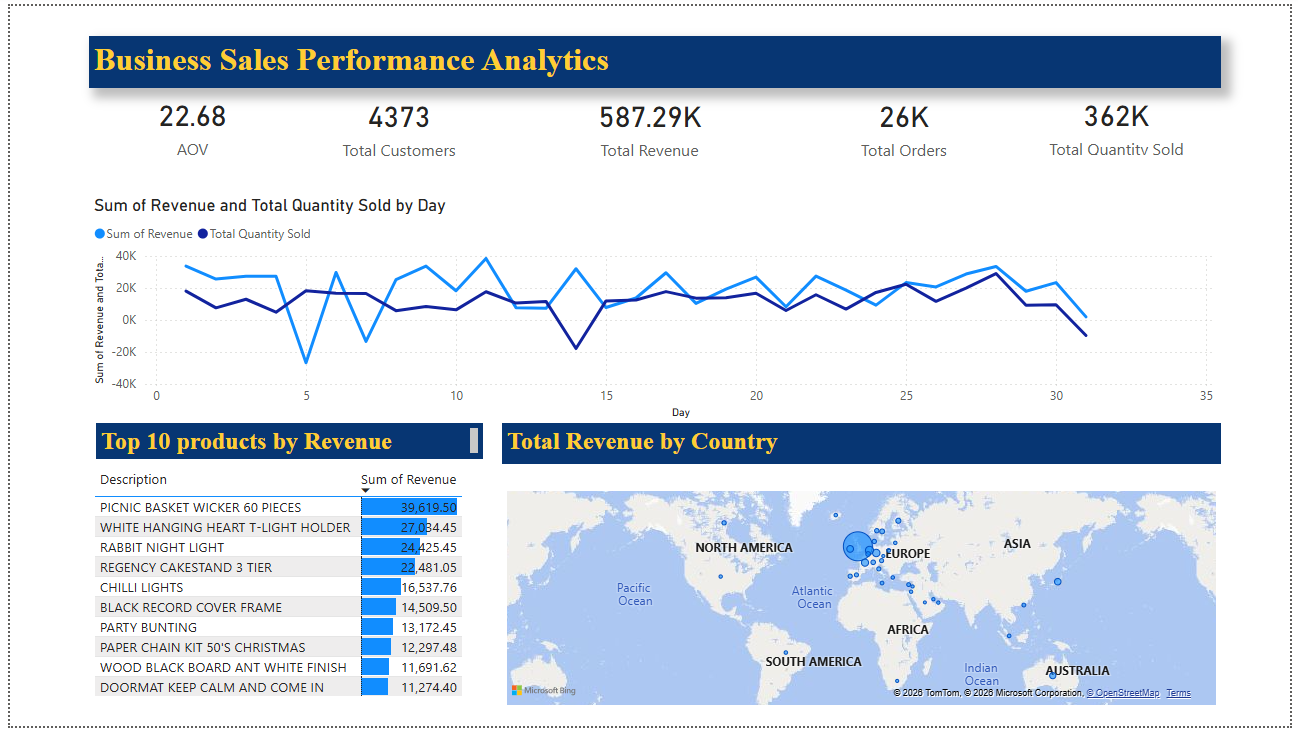

The page's visual inventory and layout, read from the dashboard file:
{"tool":"powerbi","page":{"name":"Page 1","canvas":[1280,720],"ordinal":0},"visuals":[{"type":"tableEx","fields":{"Values":["online_retail.Description","Sum(online_retail.Revenue)"]},"box":[79,458,394,246],"z":0},{"type":"map","fields":{"Category":["online_retail.Country"],"Size":["online_retail.Total Revenue"]},"box":[492,480,719,224],"z":1000},{"type":"card","fields":{"Values":["online_retail.Total Customers"]},"box":[286,83.6,206.2,71],"z":2000},{"type":"card","fields":{"Values":["online_retail.AOV"]},"box":[78.8,81.7,207.2,72],"z":3000},{"type":"card","fields":{"Values":["online_retail.Total Orders"]},"box":[804,83,180,72],"z":4000},{"type":"card","fields":{"Values":["online_retail.Total Revenue"]},"box":[551.8,83.6,175.5,71.8],"z":5000},{"type":"card","fields":{"Values":["online_retail.Total Quantity Sold"]},"box":[1012.7,81.8,187.3,71.8],"z":6000},{"type":"textbox","box":[78.8,30.2,1132.2,51.6],"z":7000},{"type":"lineChart","fields":{"Category":["online_retail.InvoiceDate.Variation.Date Hierarchy.Year","online_retail.InvoiceDate.Variation.Date Hierarchy.Quarter","online_retail.InvoiceDate.Variation.Date Hierarchy.Month","online_retail.InvoiceDate.Variation.Date Hierarchy.Day"],"Y":["Sum(online_retail.Revenue)","online_retail.Total Quantity Sold"]},"box":[79.1,189.1,1131.8,228.2],"z":8000},{"type":"textbox","box":[86,417,387,36],"z":9000},{"type":"textbox","box":[492,417,719,41],"z":9001}]}

Visuals, with their boxes in screenshot pixels (x1, y1, x2, y2), scaled from the page's 1280x720 canvas onto the 1298x735 screenshot:
tableEx - online_retail.Description x Sum(online_retail.Revenue): 80 468 480 719
map - online_retail.Country x online_retail.Total Revenue: 499 490 1228 719
card - online_retail.Total Customers: 290 85 499 158
card - online_retail.AOV: 80 83 290 157
card - online_retail.Total Orders: 815 85 998 158
card - online_retail.Total Revenue: 560 85 738 159
card - online_retail.Total Quantity Sold: 1027 84 1217 157
textbox: 80 31 1228 84
lineChart - online_retail.InvoiceDate.Variation.Date Hierarchy.Year x online_retail.InvoiceDate.Variation.Date Hierarchy.Quarter: 80 193 1228 426
textbox: 87 426 480 462
textbox: 499 426 1228 468
